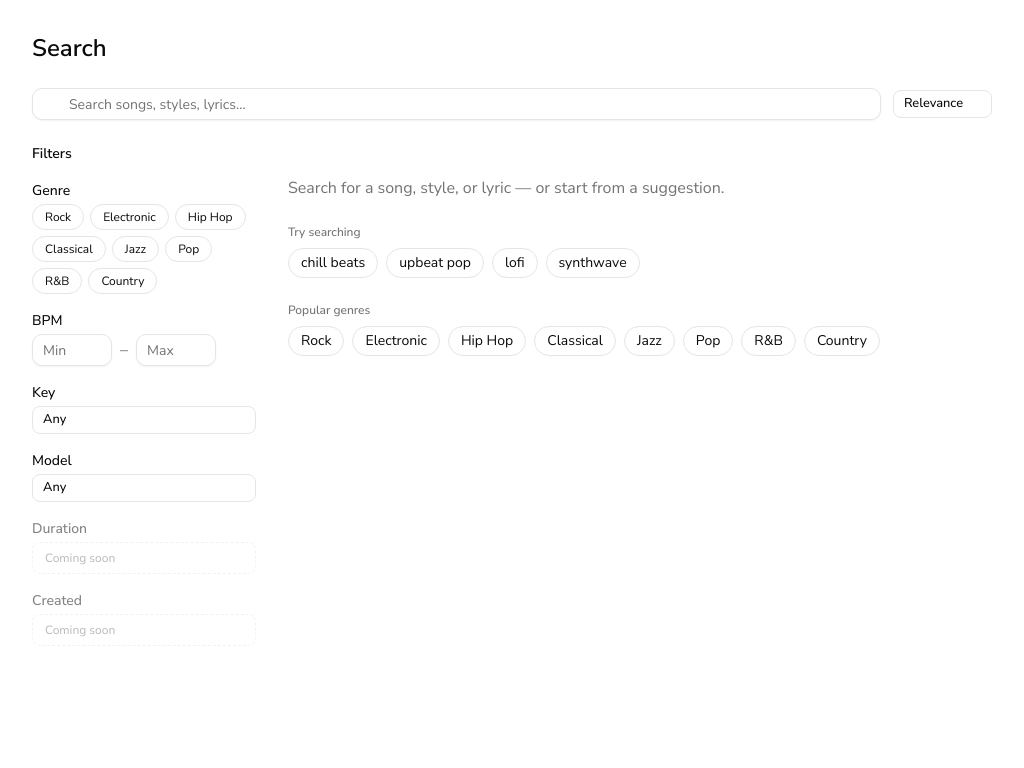
Scenario: SearchView › offers the API's keys as filter options
Step 1. Click the button with aria-label "Key: Any" → click(144, 420), box left=32, top=406, right=256, bottom=434
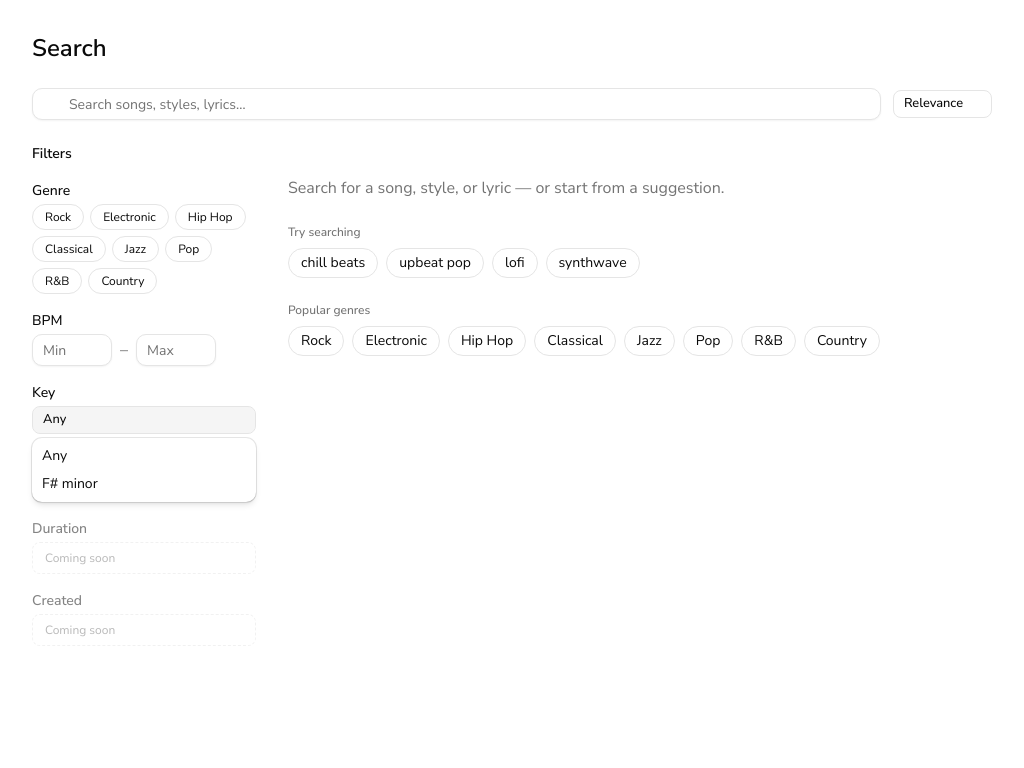
Now the menu item "F# minor" is shown, box left=42, top=474, right=98, bottom=493
